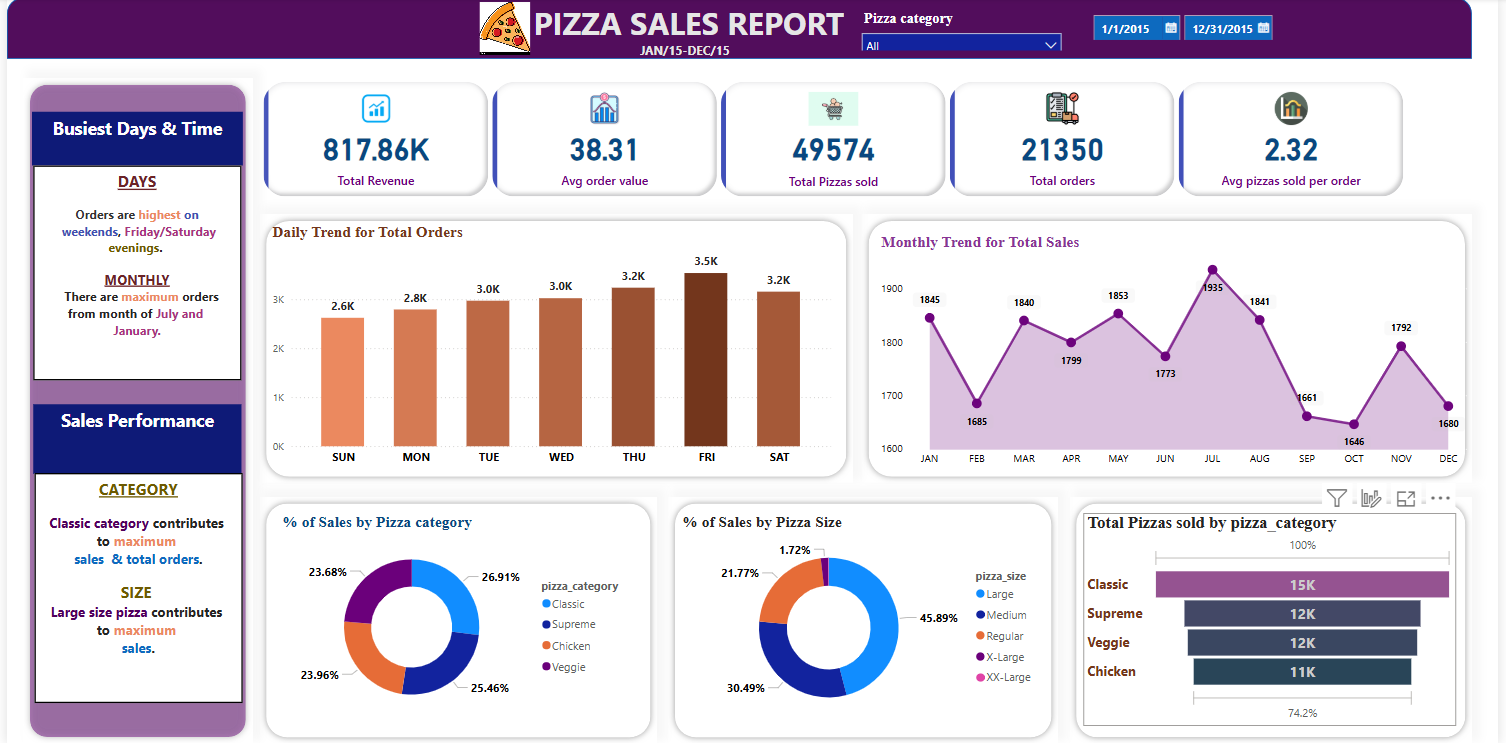

What the dashboard file says about the page in this screenshot:
{"tool":"powerbi","page":{"name":"Page 1","canvas":[1800,900],"ordinal":0},"visuals":[{"type":"cardVisual","fields":{"Data":["pizza_sales.Total Revenue","pizza_sales.Avg order value","pizza_sales.Total Pizzas sold","pizza_sales.Total orders","pizza_sales.Avg pizzas sold per order"]},"box":[304.7,96.9,1389.1,148.4],"z":0},{"type":"shape","box":[0,0,1767.2,73.4],"z":1000},{"type":"textbox","box":[565.6,0,514.1,73.4],"z":2000},{"type":"textbox","box":[757.8,48.4,182.8,59.4],"z":3000},{"type":"image","box":[565.6,0,70.3,73.4],"z":4000},{"type":"shape","box":[304.7,260.9,715.6,325],"z":5000},{"type":"columnChart","title":"Daily Trend for Total Orders","fields":{"Category":["pizza_sales.order_day"],"Y":["pizza_sales.Total orders"]},"box":[315.6,271.9,684.4,301.6],"z":6000},{"type":"shape","box":[1031.2,260.9,735.9,325],"z":7000},{"type":"areaChart","title":"Monthly Trend for Total Sales","fields":{"Category":["pizza_sales.order_month"],"Y":["pizza_sales.Total orders"]},"box":[1050,282.8,717.2,290.6],"z":8000},{"type":"shape","box":[304.7,601.6,479.7,298.4],"z":9000},{"type":"shape","box":[798.4,601.6,470.3,298.4],"z":10000},{"type":"shape","box":[1281.2,601.6,485.9,298.4],"z":11000},{"type":"donutChart","title":"% of Sales by Pizza category","fields":{"Category":["pizza_sales.pizza_category"],"Y":["pizza_sales.Total Revenue"]},"box":[326.6,621.9,431.2,254.7],"z":12000},{"type":"donutChart","title":"% of Sales by Pizza Size","fields":{"Category":["pizza_sales.pizza_size"],"Y":["pizza_sales.Total Revenue"]},"box":[809.4,621.9,443.8,256.2],"z":13000},{"type":"funnel","fields":{"Category":["pizza_sales.pizza_category"],"Y":["pizza_sales.Total Pizzas sold"]},"box":[1298.4,621.9,451.6,256.2],"z":14000},{"type":"shape","box":[20.3,96.9,276.6,803.1],"z":15000},{"type":"textbox","box":[30.9,136.8,254.4,64.7],"z":16000},{"type":"textbox","box":[32.4,201.5,251.5,258.8],"z":17000},{"type":"textbox","box":[32.4,489.7,251.5,83.8],"z":18000},{"type":"textbox","box":[33.8,573.5,251.5,277.9],"z":19000},{"type":"slicer","fields":{"Values":["pizza_sales.pizza_category"]},"box":[1021,10.6,260.9,52.8],"z":20000},{"type":"slicer","fields":{"Values":["pizza_sales.order_date"]},"box":[1298.5,10.3,255.9,39.7],"z":21000}]}

Visuals, with their boxes in screenshot pixels (x1, y1, x2, y2), scaled from the page's 1800x900 canvas onto the 1506x743 screenshot:
cardVisual - pizza_sales.Total Revenue x pizza_sales.Avg order value: x1=255 y1=80 x2=1417 y2=203
shape: x1=0 y1=0 x2=1479 y2=61
textbox: x1=473 y1=0 x2=903 y2=61
textbox: x1=634 y1=40 x2=787 y2=89
image: x1=473 y1=0 x2=532 y2=61
shape: x1=255 y1=215 x2=854 y2=484
"Daily Trend for Total Orders" columnChart: x1=264 y1=224 x2=837 y2=473
shape: x1=863 y1=215 x2=1478 y2=484
"Monthly Trend for Total Sales" areaChart: x1=878 y1=233 x2=1479 y2=473
shape: x1=255 y1=497 x2=656 y2=742
shape: x1=668 y1=497 x2=1061 y2=742
shape: x1=1072 y1=497 x2=1478 y2=742
"% of Sales by Pizza category" donutChart: x1=273 y1=513 x2=634 y2=724
"% of Sales by Pizza Size" donutChart: x1=677 y1=513 x2=1049 y2=725
funnel - pizza_sales.pizza_category x pizza_sales.Total Pizzas sold: x1=1086 y1=513 x2=1464 y2=725
shape: x1=17 y1=80 x2=248 y2=742
textbox: x1=26 y1=113 x2=239 y2=166
textbox: x1=27 y1=166 x2=238 y2=380
textbox: x1=27 y1=404 x2=238 y2=473
textbox: x1=28 y1=473 x2=239 y2=703
slicer - pizza_sales.pizza_category: x1=854 y1=9 x2=1073 y2=52
slicer - pizza_sales.order_date: x1=1086 y1=9 x2=1301 y2=41
